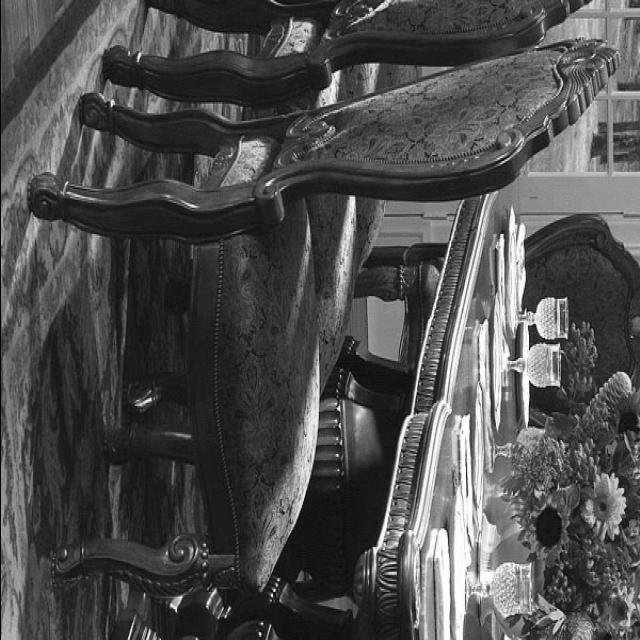chair: (27, 41, 609, 594), (104, 0, 602, 419), (349, 216, 639, 472)
